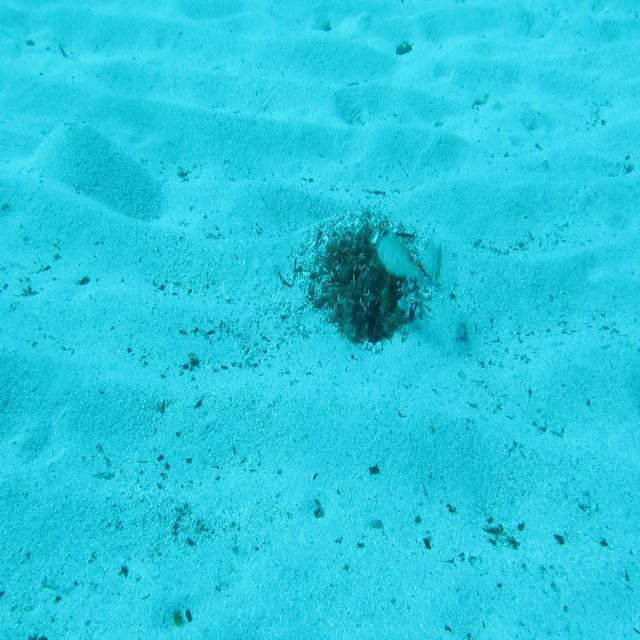BK_SW: (372, 220, 422, 299)
female: (420, 238, 453, 288)
nest: (310, 216, 432, 348)
